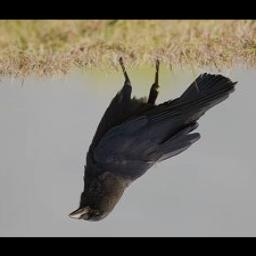Crow: (66, 57, 237, 224)
